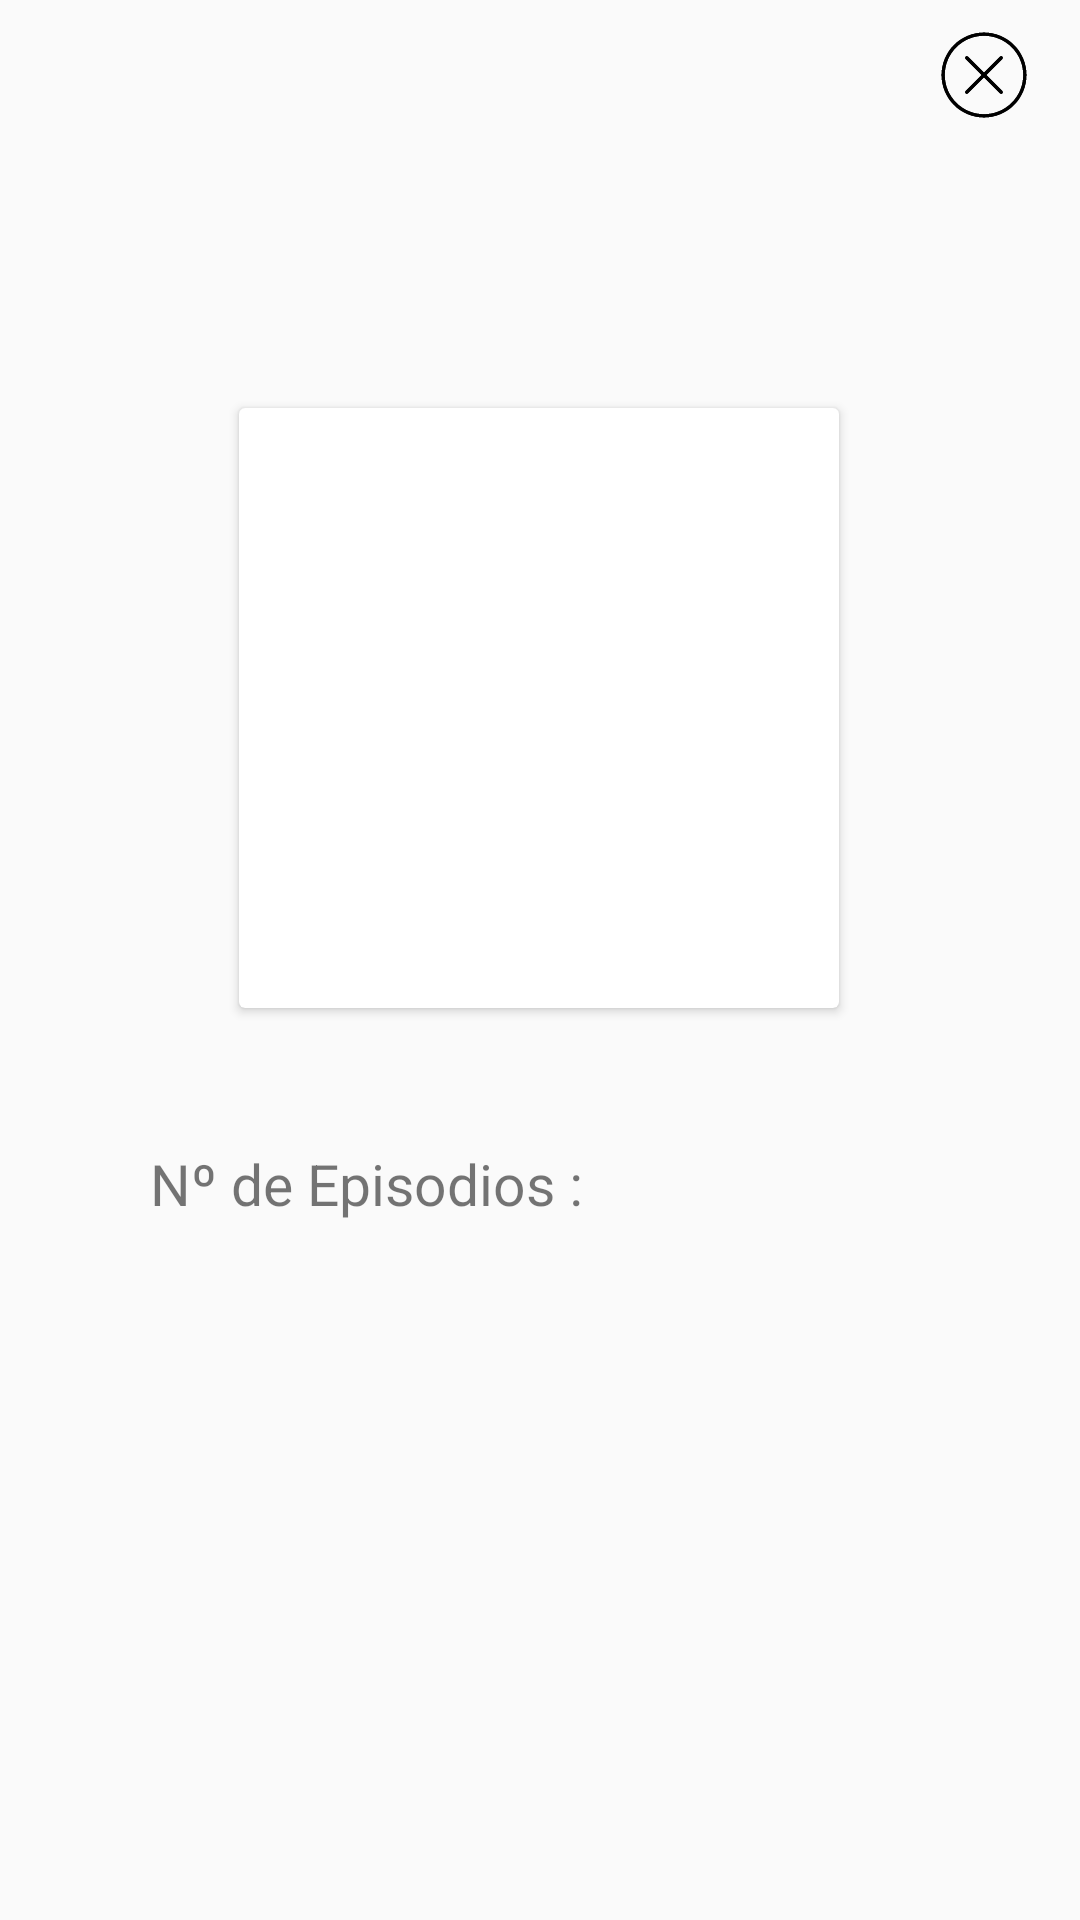

Icon click points for this 1080w x 1920h phone screenshot, format (x,y):
close dialog: (984,75)
